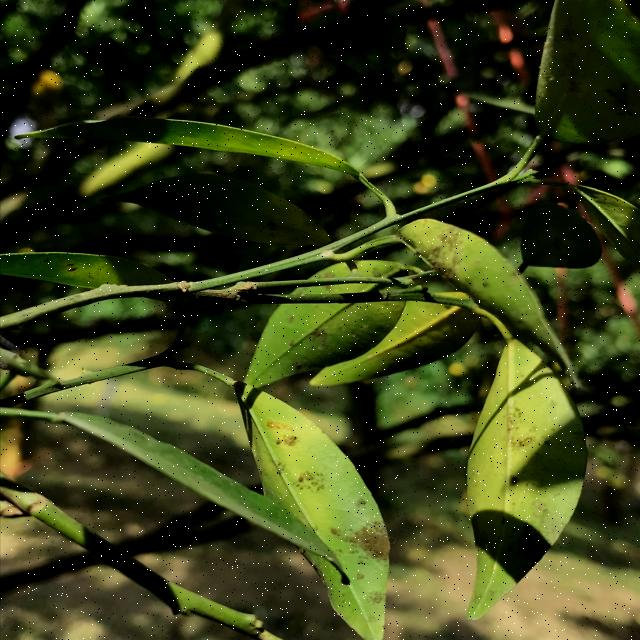canker: (241, 403, 398, 627), (473, 395, 581, 557), (250, 263, 403, 377), (532, 12, 640, 147), (406, 221, 516, 300), (1, 249, 117, 294)
